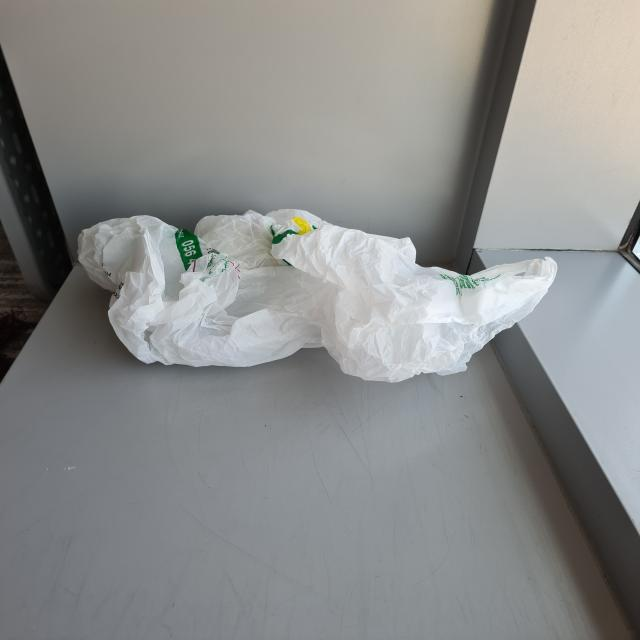plastic: (60, 186, 558, 416)
